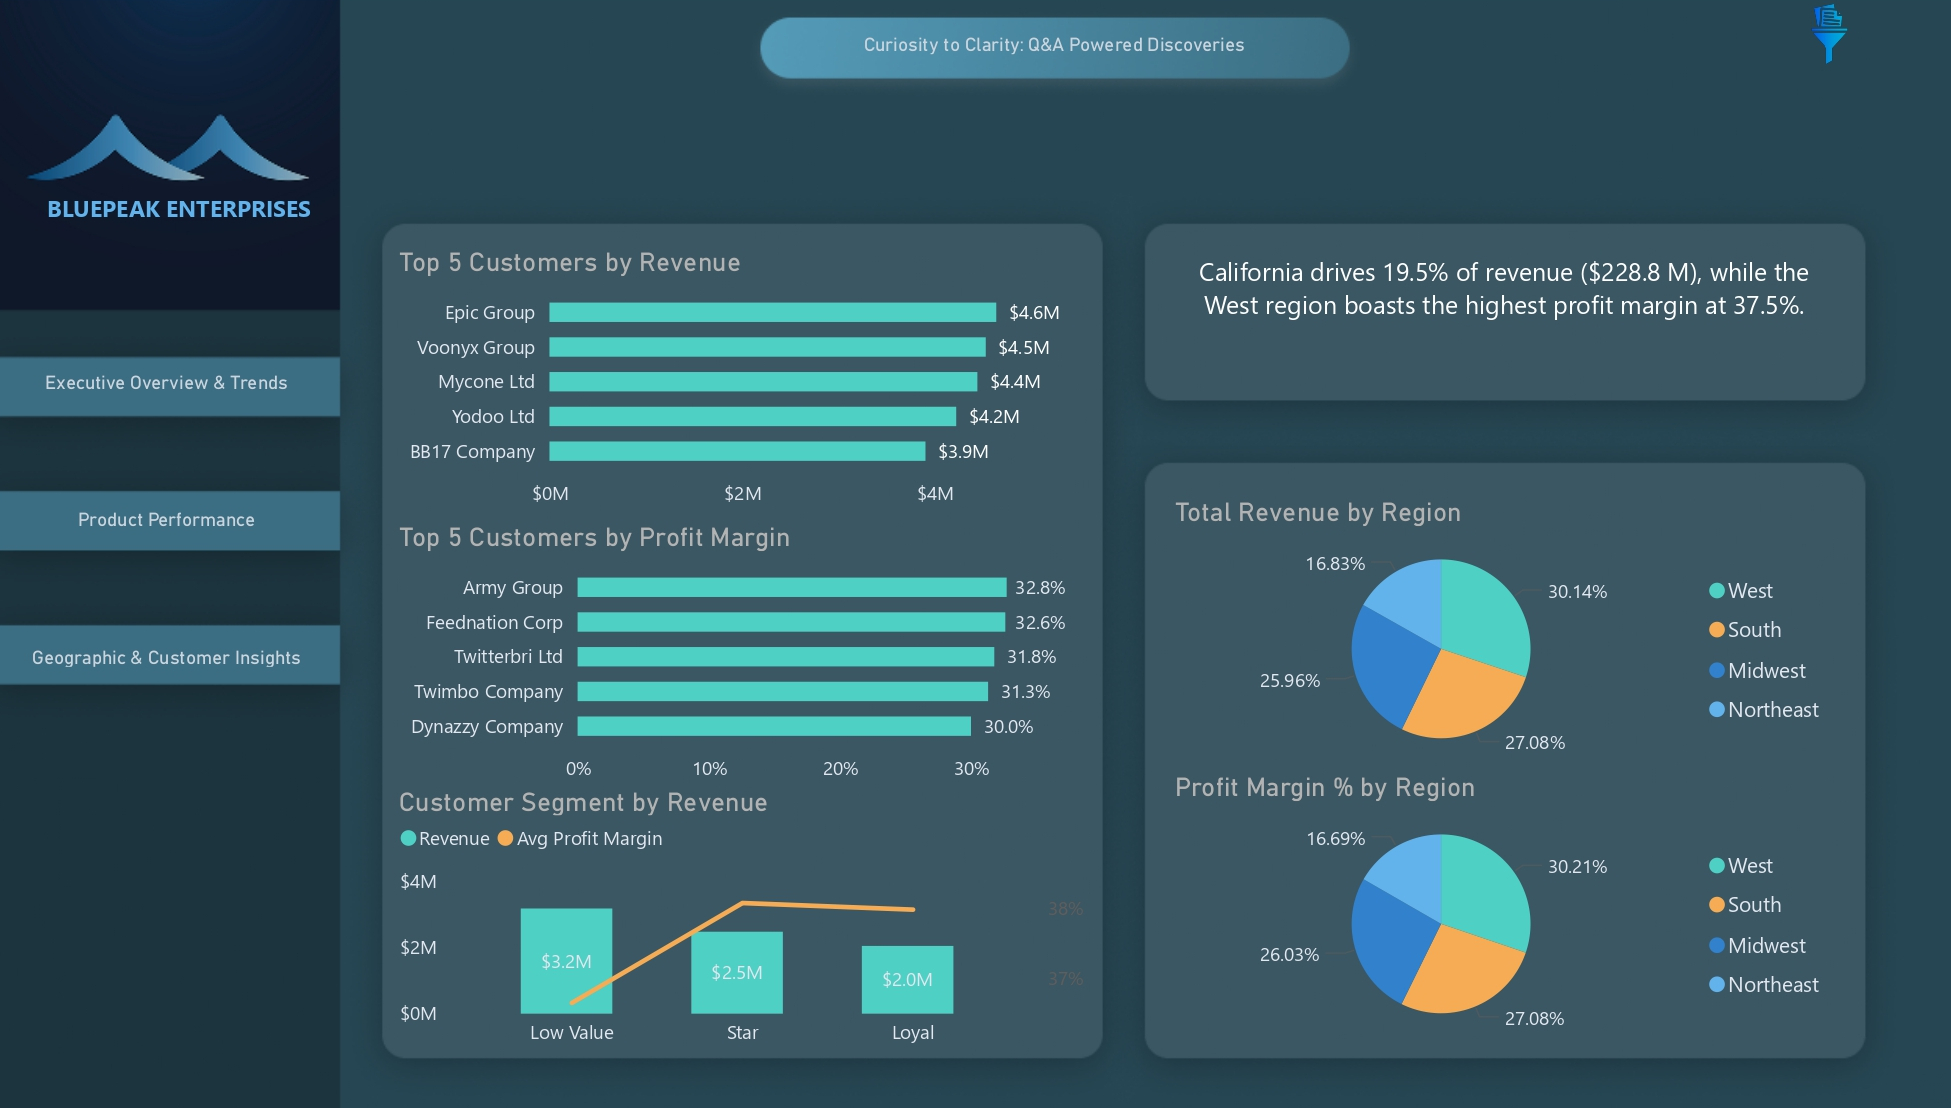

Layout of this report page (visuals, bound fields, positions):
{"tool":"powerbi","page":{"name":"Geographic & Customer Insights","canvas":[1260,720],"ordinal":2},"visuals":[{"type":"clusteredBarChart","title":"Top 5 Customers by Revenue","fields":{"Y":["Key Measures.Revenue"],"Category":["DimCustomer.CustomerName"]},"box":[256,160,448,176],"z":0},{"type":"clusteredBarChart","title":"Top 5 Customers by Profit Margin","fields":{"Category":["DimCustomer.CustomerName"],"Y":["Key Measures.Profit Margin"]},"box":[256,336,448,176],"z":1000},{"type":"lineClusteredColumnComboChart","title":"Customer Segment by Revenue","fields":{"Category":["DimCustomer.Customer Segment"],"Y":["Key Measures.Revenue"],"Y2":["Avg(DimCustomer.Avg Profit Margin)"]},"box":[256,505,448,176],"z":2000},{"type":"pieChart","title":"Total Revenue by Region","fields":{"Category":["DimGeography.Region"],"Y":["Key Measures.Region Contribution %"]},"box":[752,320,432,176],"z":3000},{"type":"pieChart","title":"Profit Margin % by Region","fields":{"Category":["DimGeography.Region"],"Y":["Key Measures.Region Profit Contribution %"]},"box":[752,496,432,176],"z":4000},{"type":"actionButton","title":"Executive Overview & Trends","box":[0,240,224,40],"z":5000},{"type":"actionButton","title":"Product Performance","box":[0,328,224,40],"z":6000},{"type":"actionButton","title":"Geographic & Customer Insights","box":[0,416,224,40],"z":7000},{"type":"actionButton","title":"Curiosity to Clarity: Q&A Powered Discoveries","box":[512,24,336,56],"z":8000},{"type":"textbox","box":[24,120,192,32],"z":9000},{"type":"textbox","box":[752,160,432,80],"z":10000},{"type":"image","title":"Filter","box":[1136,0,80,48],"z":12000}]}

Visuals, with their boxes in screenshot pixels (x1, y1, x2, y2), scaled from the page's 1260x720 canvas onto the 1951x1108 screenshot:
"Top 5 Customers by Revenue" clusteredBarChart: [396,246,1090,517]
"Top 5 Customers by Profit Margin" clusteredBarChart: [396,517,1090,788]
"Customer Segment by Revenue" lineClusteredColumnComboChart: [396,777,1090,1048]
"Total Revenue by Region" pieChart: [1164,492,1833,763]
"Profit Margin % by Region" pieChart: [1164,763,1833,1034]
"Executive Overview & Trends" actionButton: [0,369,347,431]
"Product Performance" actionButton: [0,505,347,566]
"Geographic & Customer Insights" actionButton: [0,640,347,702]
"Curiosity to Clarity: Q&A Powered Discoveries" actionButton: [793,37,1313,123]
textbox: [37,185,334,234]
textbox: [1164,246,1833,369]
"Filter" image: [1759,0,1883,74]
